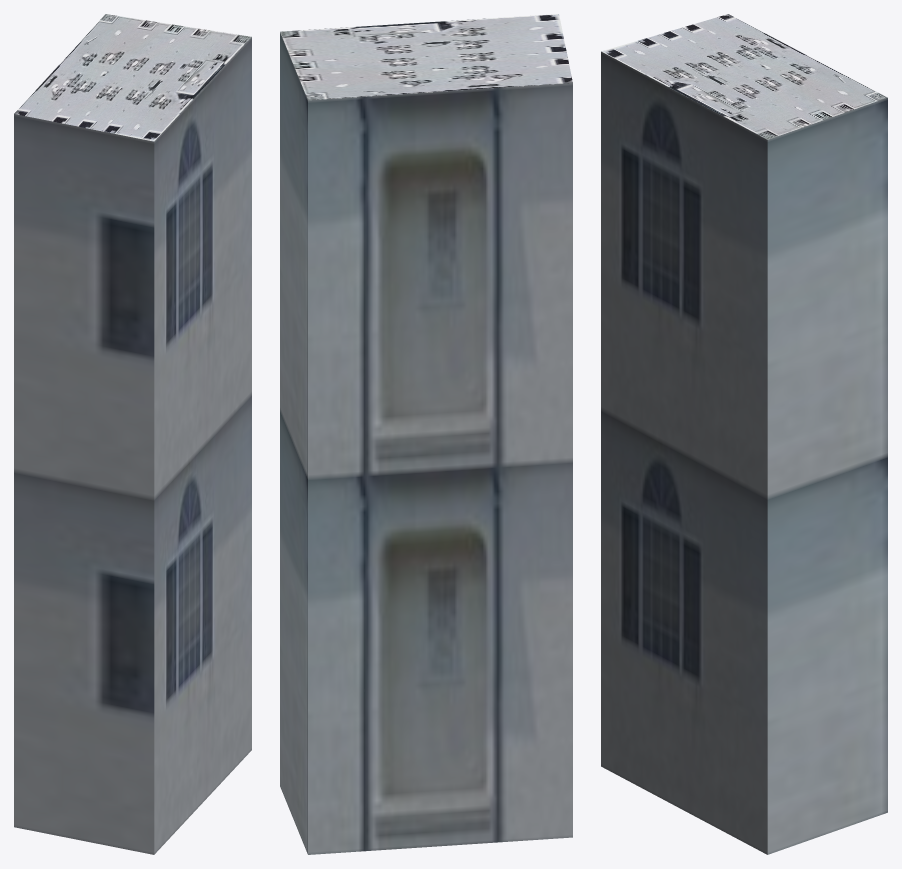
The model's file is ResTex__4768.fbx.
3 views of the same model, side by side, from view 1: azimuth 30°, elevation 25°; view 2: azimuth 150°, elevation 25°; view 3: azimuth 270°, elevation 25° (orthographic). The views are drawn at different scales.
Visible parts, largest first — view 1: CityEngineMaterial_17_m, CityEngineMaterial_8_m; view 2: CityEngineMaterial_17_m, CityEngineMaterial_8_m; view 3: CityEngineMaterial_17_m, CityEngineMaterial_8_m.
Part boxes in pixels (bbox=[...]): CityEngineMaterial_17_m: bbox=[14, 37, 251, 854]; CityEngineMaterial_8_m: bbox=[14, 14, 251, 141]; CityEngineMaterial_17_m: bbox=[280, 32, 572, 854]; CityEngineMaterial_8_m: bbox=[280, 14, 572, 100]; CityEngineMaterial_17_m: bbox=[601, 51, 887, 854]; CityEngineMaterial_8_m: bbox=[601, 14, 887, 139].
Size of the model in its own units: 2.27 by 6 by 2.18.
Materials: 2 (2 with a texture image).
